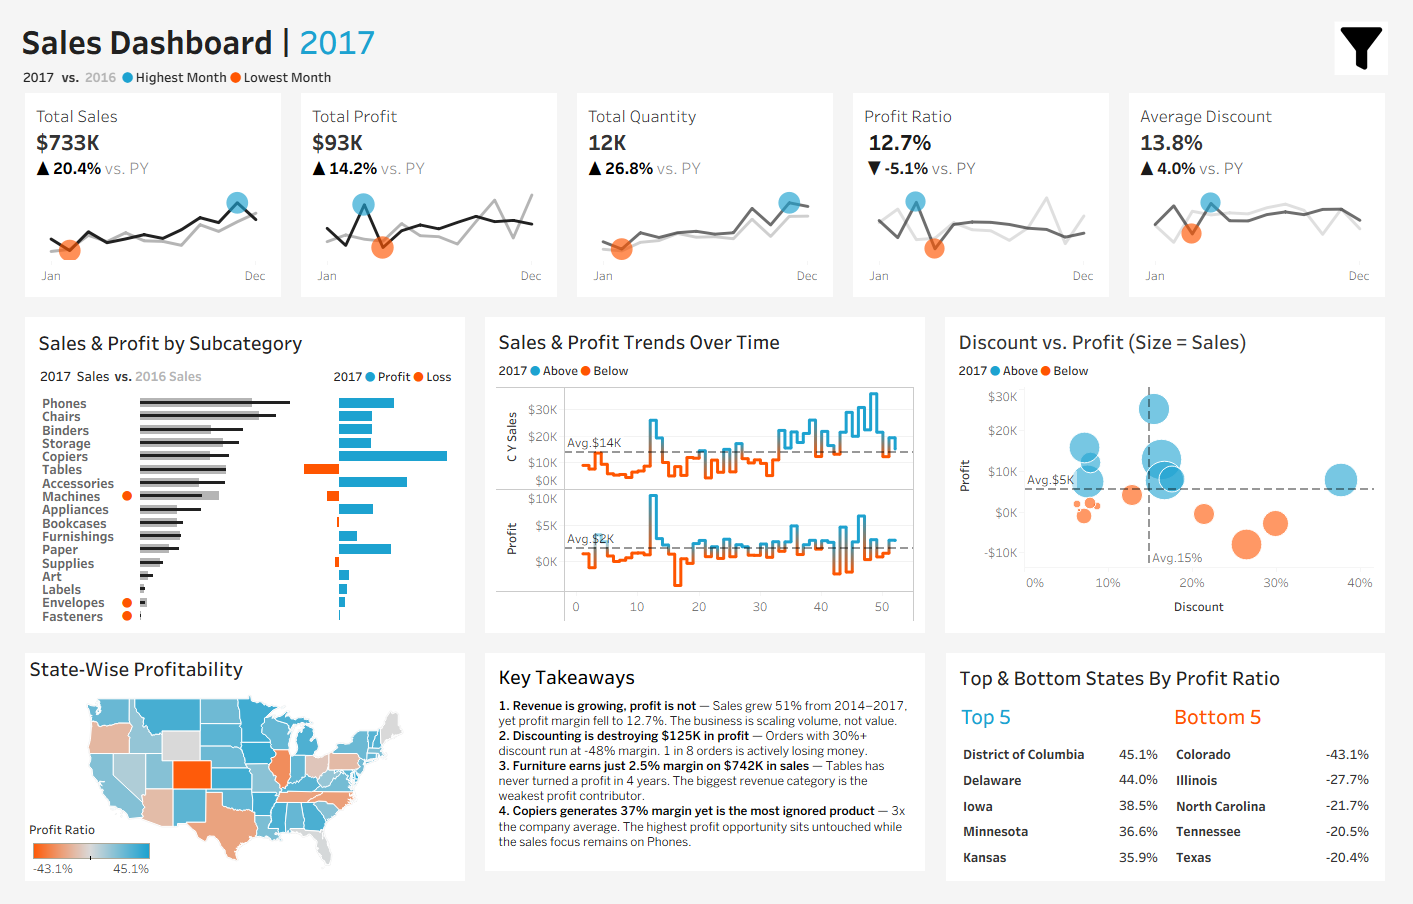

The dashboard page shown, as its layout file describes it:
{"tool":"tableau","page":{"name":"Sales Dashboard","canvas":[1200,800],"ordinal":1},"visuals":[{"type":"text","box":[0,0,1200,47]},{"type":"dashboard-object","box":[1163,12,24,24]},{"type":"blank","box":[1022,24,153,32]},{"type":"worksheet","title":"Legend KPi","mark":"Text","box":[0,47,1200,32]},{"type":"text","box":[1022,56,153,34]},{"type":"worksheet","title":"KPI Sales","mark":"Automatic","rows":["Calculation_1907985525301257"],"cols":["Order Date"],"box":[0,79,400,287]},{"type":"worksheet","title":"KPI Profit","mark":"Automatic","rows":["Min/Max Sales (copy)_1907985526300682"],"cols":["Order Date"],"box":[400,79,400,287]},{"type":"worksheet","title":"KPI Quantity","mark":"Automatic","rows":["Min/Max Sales (copy)_1144927033761797"],"cols":["Order Date"],"box":[800,79,400,287]},{"type":"parameter","param":"[Parameters].[Parameter 1]","box":[1022,90,153,52]},{"type":"blank","box":[1022,142,153,32]},{"type":"text","box":[1022,174,153,29]},{"type":"filter","title":"KPI Sales","param":"[federated.1cmdqdm0iwq5gf11noz6d0rsstns].[none:Category:nk]","box":[1022,203,153,52]},{"type":"filter","title":"KPI Sales","param":"[federated.1cmdqdm0iwq5gf11noz6d0rsstns].[none:Sub-Category:nk]","box":[1022,255,153,52]},{"type":"blank","box":[1022,307,153,33]},{"type":"text","box":[1022,340,153,29]},{"type":"text","box":[0,366,594,34]},{"type":"text","box":[594,366,606,34]},{"type":"filter","title":"KPI Sales","param":"[federated.1cmdqdm0iwq5gf11noz6d0rsstns].[none:Region:nk]","box":[1022,369,153,52]},{"type":"worksheet","title":"Legend Subcategory","mark":"Text","box":[17,407,377,34]},{"type":"text","box":[394,407,189,34]},{"type":"text","box":[617,407,566,32]},{"type":"filter","title":"KPI Sales","param":"[federated.1cmdqdm0iwq5gf11noz6d0rsstns].[none:State:nk]","box":[1022,421,153,52]},{"type":"worksheet","title":"Weekly Trends","mark":"Automatic","rows":["Calculation_1907985517735936","C Y Sales (copy)_1907985522249734"],"cols":["Order Date"],"box":[617,439,566,344]},{"type":"worksheet","title":"Subcategory Comparison","mark":"Bar","rows":["Sub-Category","Calculation_1012162761084928"],"cols":["C Y Sales (copy)_1907985518264322","Calculation_1907985517735936","C Y Sales (copy)_1907985522249734"],"box":[17,441,566,341.9]},{"type":"filter","title":"KPI Sales","param":"[federated.1cmdqdm0iwq5gf11noz6d0rsstns].[none:City:nk]","box":[1022,473,153,52]}]}

Visuals, with their boxes on the page's 1200x800 design canvas (x1, y1, x2, y2). These are canvas units, not pixel positions in the 1413x904 screenshot, which may show the page scaled, cropped or inside an application window:
text: 0,0,1200,47
dashboard-object: 1163,12,1187,36
blank: 1022,24,1175,56
"Legend KPi" worksheet (Text marks): 0,47,1200,79
text: 1022,56,1175,90
"KPI Sales" worksheet: 0,79,400,366
"KPI Profit" worksheet: 400,79,800,366
"KPI Quantity" worksheet: 800,79,1200,366
parameter: 1022,90,1175,142
blank: 1022,142,1175,174
text: 1022,174,1175,203
"KPI Sales" filter: 1022,203,1175,255
"KPI Sales" filter: 1022,255,1175,307
blank: 1022,307,1175,340
text: 1022,340,1175,369
text: 0,366,594,400
text: 594,366,1200,400
"KPI Sales" filter: 1022,369,1175,421
"Legend Subcategory" worksheet (Text marks): 17,407,394,441
text: 394,407,583,441
text: 617,407,1183,439
"KPI Sales" filter: 1022,421,1175,473
"Weekly Trends" worksheet: 617,439,1183,783
"Subcategory Comparison" worksheet (Bar marks): 17,441,583,783
"KPI Sales" filter: 1022,473,1175,525
